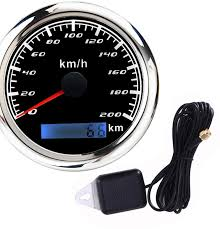Digital_Meter: (37, 124, 106, 141)
